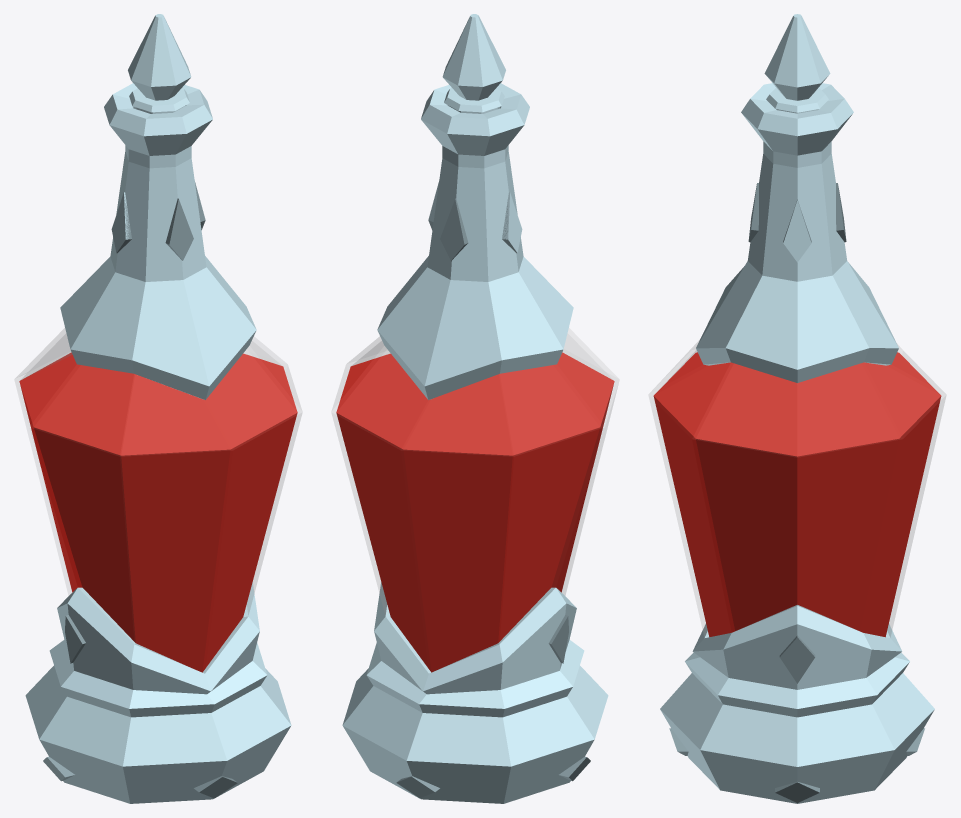
File: Type_03_Red.fbx
3 renders of one model, left to right at view 1: azimuth 30°, elevation 25°; view 2: azimuth 150°, elevation 25°; view 3: azimuth 270°, elevation 25°, orthographic.
Visible parts, largest first — view 1: Type_03_Bottle_Red, Type_ 03_Cork_Red; view 2: Type_03_Bottle_Red, Type_ 03_Cork_Red; view 3: Type_03_Bottle_Red, Type_ 03_Cork_Red.
Boxes of the visible parts, x1=… form: Type_03_Bottle_Red: x1=14, y1=83, x2=302, y2=803; Type_ 03_Cork_Red: x1=128, y1=14, x2=191, y2=113; Type_03_Bottle_Red: x1=331, y1=83, x2=619, y2=803; Type_ 03_Cork_Red: x1=442, y1=14, x2=505, y2=113; Type_03_Bottle_Red: x1=648, y1=83, x2=946, y2=803; Type_ 03_Cork_Red: x1=764, y1=14, x2=830, y2=113.
Size of the model in its own units: 15 by 41.19 by 15.
